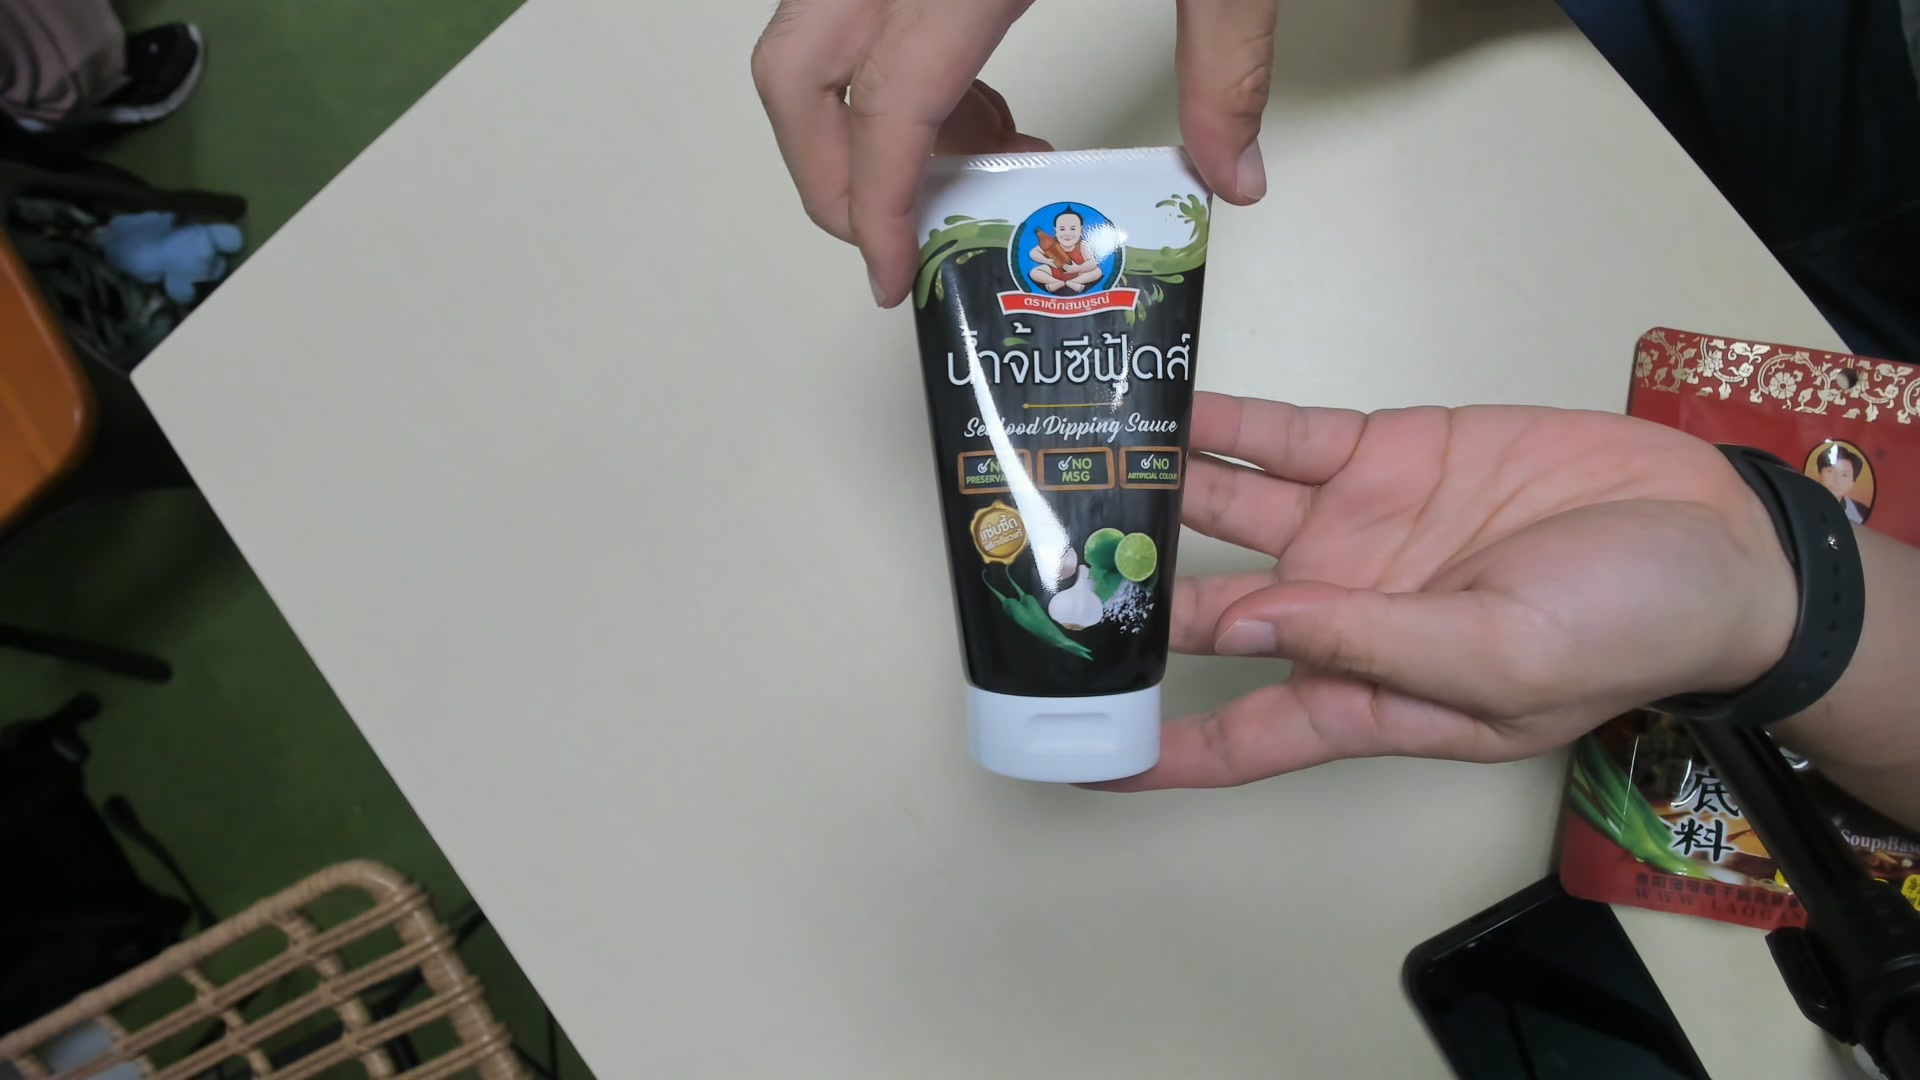OtherSauceDressing_100-199g_NonHalal_NonHealthy: (916, 153, 1217, 777)
